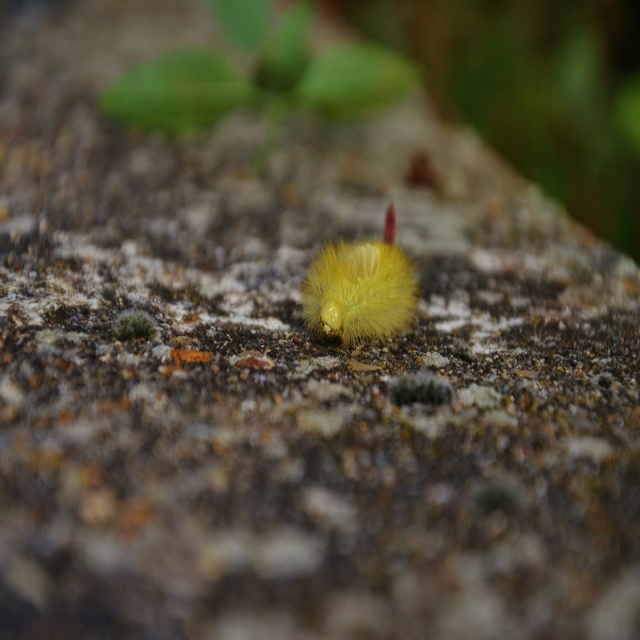Caterpillar: (296, 225, 420, 349)
